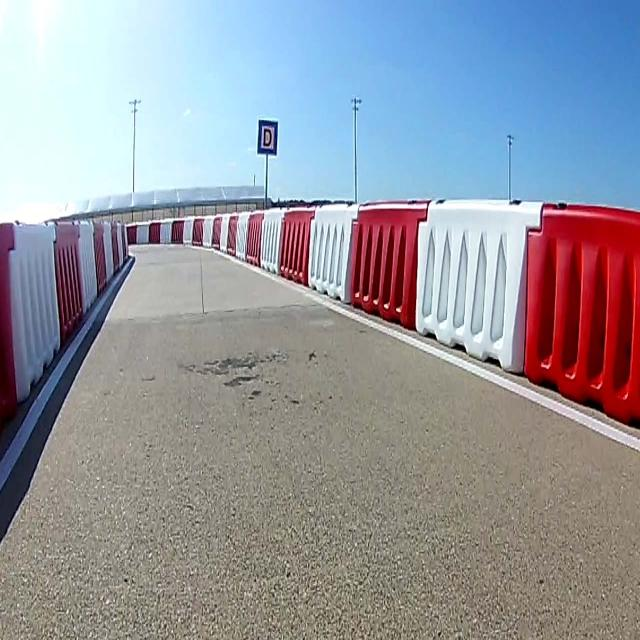durak: (258, 119, 277, 155)
